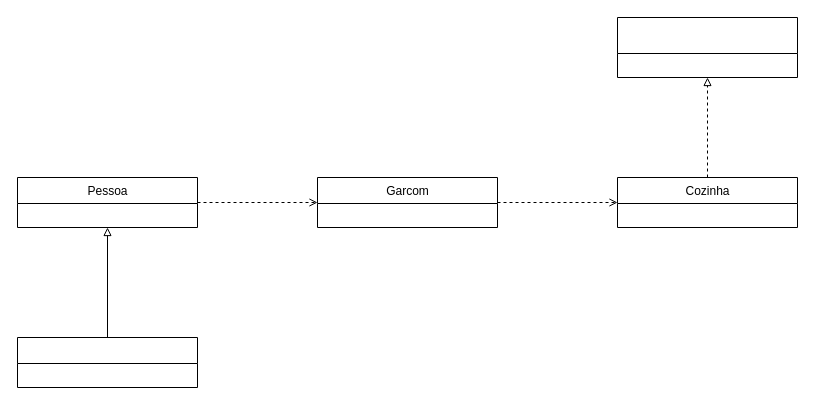
Some shapes in this 815 by 405 pixel diagram are drawn without their labels. Each missing label, with the centre of its shape:
<<interface>> Setor: the point at 707,47
Cliente: the point at 107,362
